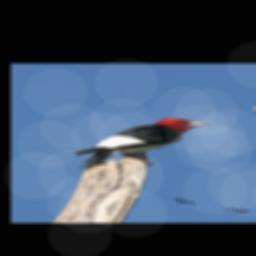Woodpecker: (60, 104, 216, 187)
